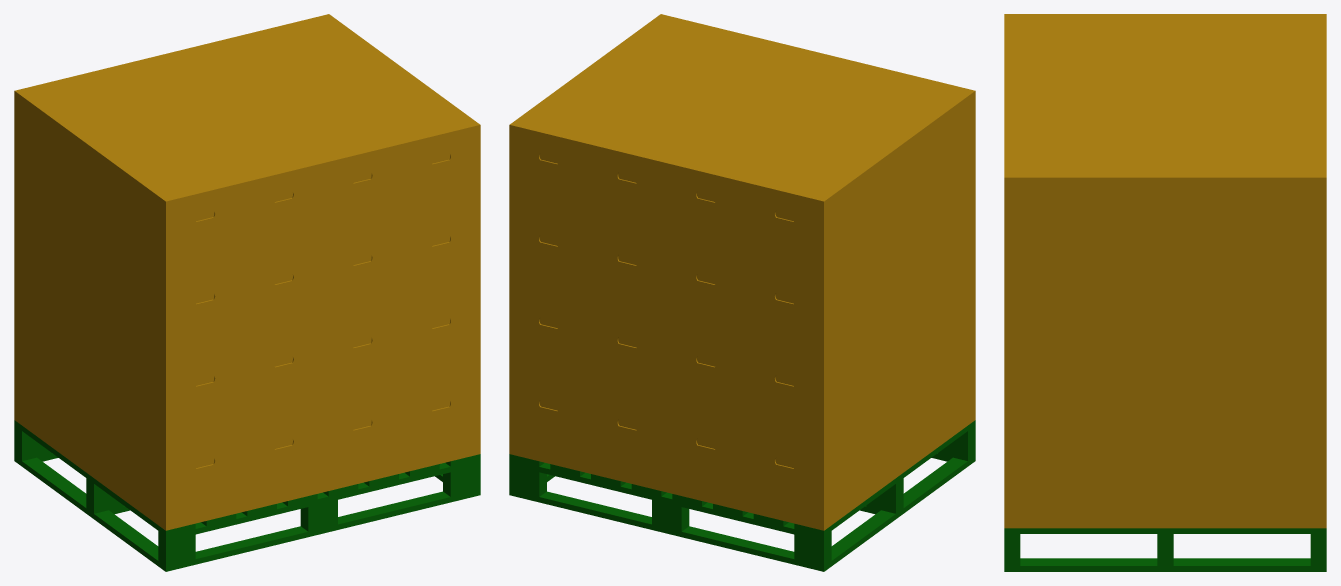
The model's file is FullPallet.obj.
3 renders of one model, left to right at view 1: azimuth 30°, elevation 25°; view 2: azimuth 150°, elevation 25°; view 3: azimuth 270°, elevation 25°, orthographic. The views are drawn at different scales.
Visible parts, largest first — view 1: Mesh26 ___4_26 ___2_1 ___5_1 Model, Mesh2 ___4_2 ___2_1 ___5_1 Model, Mesh12 ___4_12 ___2_1 ___5_1 Model, Mesh18 ___4_18 ___2_1 ___5_1 Model, Mesh28 ___4_28 ___2_1 ___5_1 Model, Mesh30 ___4_30 ___2_1 ___5_1 Model, Mesh32 ___4_32 ___2_1 ___5_1 Model, Mesh25 ___4_25 ___2_1 ___5_1 Model, Mesh5 ___4_5 ___2_1 ___5_1 Model, Mesh13 ___4_13 ___2_1 ___5_1 Model, Mesh20 ___4_20 ___2_1 ___5_1 Model, Mesh17 ___4_17 ___2_1 ___5_1 Model (+20 smaller); view 2: Mesh25 ___4_25 ___2_1 ___5_1 Model, Mesh1 ___4_1 ___2_1 ___5_1 Model, Mesh10 ___4_10 ___2_1 ___5_1 Model, Mesh11 ___4_11 ___2_1 ___5_1 Model, Mesh27 ___4_27 ___2_1 ___5_1 Model, Mesh29 ___4_29 ___2_1 ___5_1 Model, Mesh31 ___4_31 ___2_1 ___5_1 Model, Mesh26 ___4_26 ___2_1 ___5_1 Model, Mesh4 ___4_4 ___2_1 ___5_1 Model, Mesh3 ___4_3 ___2_1 ___5_1 Model, Mesh19 ___4_19 ___2_1 ___5_1 Model, Mesh16 ___4_16 ___2_1 ___5_1 Model (+20 smaller); view 3: Mesh31 ___4_31 ___2_1 ___5_1 Model, Mesh32 ___4_32 ___2_1 ___5_1 Model, Mesh8 ___4_8 ___2_1 ___5_1 Model, Mesh9 ___4_9 ___2_1 ___5_1 Model, Mesh16 ___4_16 ___2_1 ___5_1 Model, Mesh17 ___4_17 ___2_1 ___5_1 Model, Mesh23 ___4_23 ___2_1 ___5_1 Model, Mesh24 ___4_24 ___2_1 ___5_1 Model, Mesh29 ___4_29 ___2_1 ___5_1 Model, Mesh30 ___4_30 ___2_1 ___5_1 Model, Mesh25 ___4_25 ___2_1 ___5_1 Model, Mesh26 ___4_26 ___2_1 ___5_1 Model (+7 smaller).
Part boxes in pixels (bbox=[...]): Mesh26 ___4_26 ___2_1 ___5_1 Model: bbox=[90, 127, 244, 283]; Mesh2 ___4_2 ___2_1 ___5_1 Model: bbox=[90, 393, 244, 530]; Mesh12 ___4_12 ___2_1 ___5_1 Model: bbox=[90, 311, 244, 448]; Mesh18 ___4_18 ___2_1 ___5_1 Model: bbox=[90, 229, 244, 365]; Mesh28 ___4_28 ___2_1 ___5_1 Model: bbox=[169, 108, 323, 264]; Mesh30 ___4_30 ___2_1 ___5_1 Model: bbox=[248, 88, 401, 245]; Mesh32 ___4_32 ___2_1 ___5_1 Model: bbox=[326, 69, 480, 225]; Mesh25 ___4_25 ___2_1 ___5_1 Model: bbox=[14, 71, 168, 227]; Mesh5 ___4_5 ___2_1 ___5_1 Model: bbox=[244, 410, 323, 511]; Mesh13 ___4_13 ___2_1 ___5_1 Model: bbox=[244, 328, 323, 428]; Mesh20 ___4_20 ___2_1 ___5_1 Model: bbox=[244, 245, 323, 346]; Mesh17 ___4_17 ___2_1 ___5_1 Model: bbox=[402, 289, 480, 390]; Mesh25 ___4_25 ___2_1 ___5_1 Model: bbox=[745, 127, 899, 283]; Mesh1 ___4_1 ___2_1 ___5_1 Model: bbox=[745, 393, 899, 530]; Mesh10 ___4_10 ___2_1 ___5_1 Model: bbox=[745, 311, 899, 448]; Mesh11 ___4_11 ___2_1 ___5_1 Model: bbox=[745, 229, 899, 365]; Mesh27 ___4_27 ___2_1 ___5_1 Model: bbox=[666, 108, 820, 264]; Mesh29 ___4_29 ___2_1 ___5_1 Model: bbox=[588, 88, 741, 245]; Mesh31 ___4_31 ___2_1 ___5_1 Model: bbox=[509, 69, 663, 225]; Mesh26 ___4_26 ___2_1 ___5_1 Model: bbox=[821, 71, 975, 227]; Mesh4 ___4_4 ___2_1 ___5_1 Model: bbox=[666, 410, 745, 511]; Mesh3 ___4_3 ___2_1 ___5_1 Model: bbox=[666, 328, 745, 428]; Mesh19 ___4_19 ___2_1 ___5_1 Model: bbox=[666, 245, 745, 346]; Mesh16 ___4_16 ___2_1 ___5_1 Model: bbox=[509, 289, 587, 390]; Mesh31 ___4_31 ___2_1 ___5_1 Model: bbox=[1165, 136, 1326, 265]; Mesh32 ___4_32 ___2_1 ___5_1 Model: bbox=[1004, 136, 1165, 265]; Mesh8 ___4_8 ___2_1 ___5_1 Model: bbox=[1165, 440, 1326, 528]; Mesh9 ___4_9 ___2_1 ___5_1 Model: bbox=[1004, 440, 1165, 528]; Mesh16 ___4_16 ___2_1 ___5_1 Model: bbox=[1165, 353, 1326, 440]; Mesh17 ___4_17 ___2_1 ___5_1 Model: bbox=[1004, 353, 1165, 440]; Mesh23 ___4_23 ___2_1 ___5_1 Model: bbox=[1165, 265, 1326, 352]; Mesh24 ___4_24 ___2_1 ___5_1 Model: bbox=[1004, 265, 1165, 352]; Mesh29 ___4_29 ___2_1 ___5_1 Model: bbox=[1165, 95, 1326, 136]; Mesh30 ___4_30 ___2_1 ___5_1 Model: bbox=[1004, 95, 1165, 136]; Mesh25 ___4_25 ___2_1 ___5_1 Model: bbox=[1165, 14, 1326, 54]; Mesh26 ___4_26 ___2_1 ___5_1 Model: bbox=[1004, 14, 1165, 54].
Bounding box in the file's own units: 1200 × 1350 × 1000.
